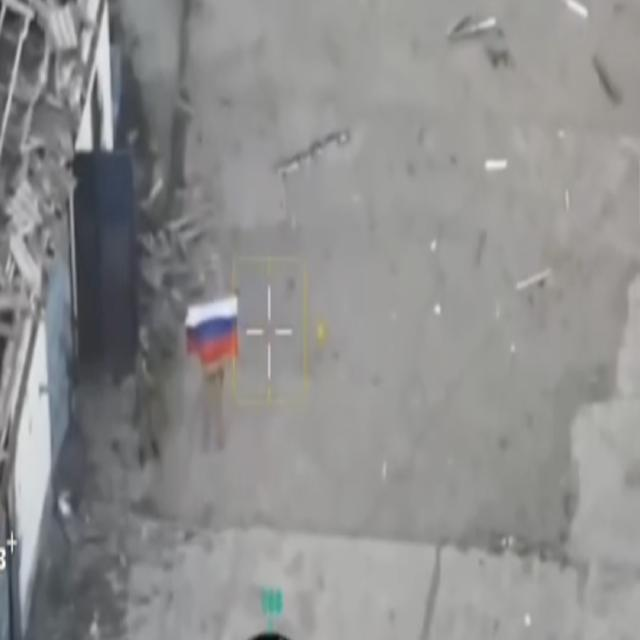infantry: (132, 326, 165, 469), (197, 323, 229, 454)
